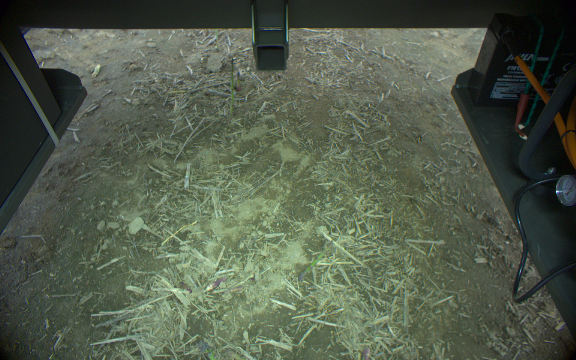aspa: (297, 240, 335, 283), (228, 56, 235, 113)
